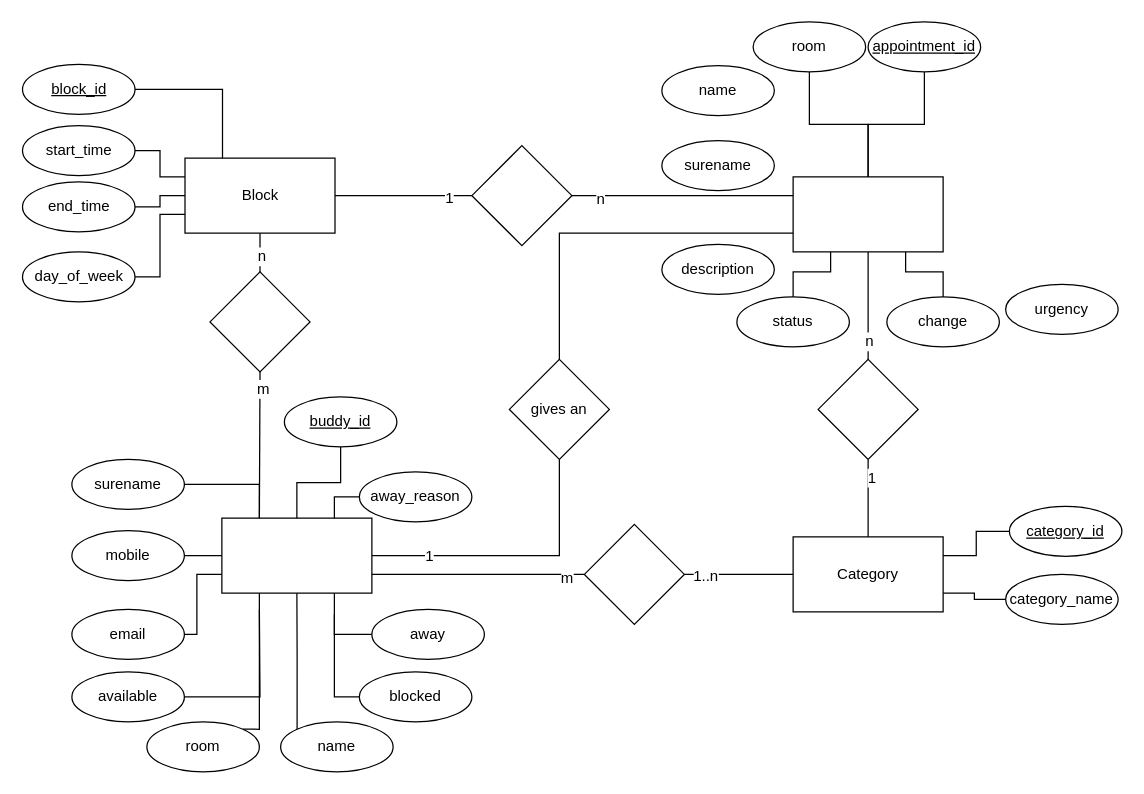
Image size: 1144x794. Some labels were removed from this diagram. The shapes that lost their labels are listed below. From the top down, each one's centre as x and y in pixels, then its label:
At point (521, 195): "will take place".
At point (867, 214): "Appointment".
At point (259, 321): "available at".
At point (867, 408): "is part of".
At point (296, 555): "Buddy".
At point (633, 573): "teaches".
